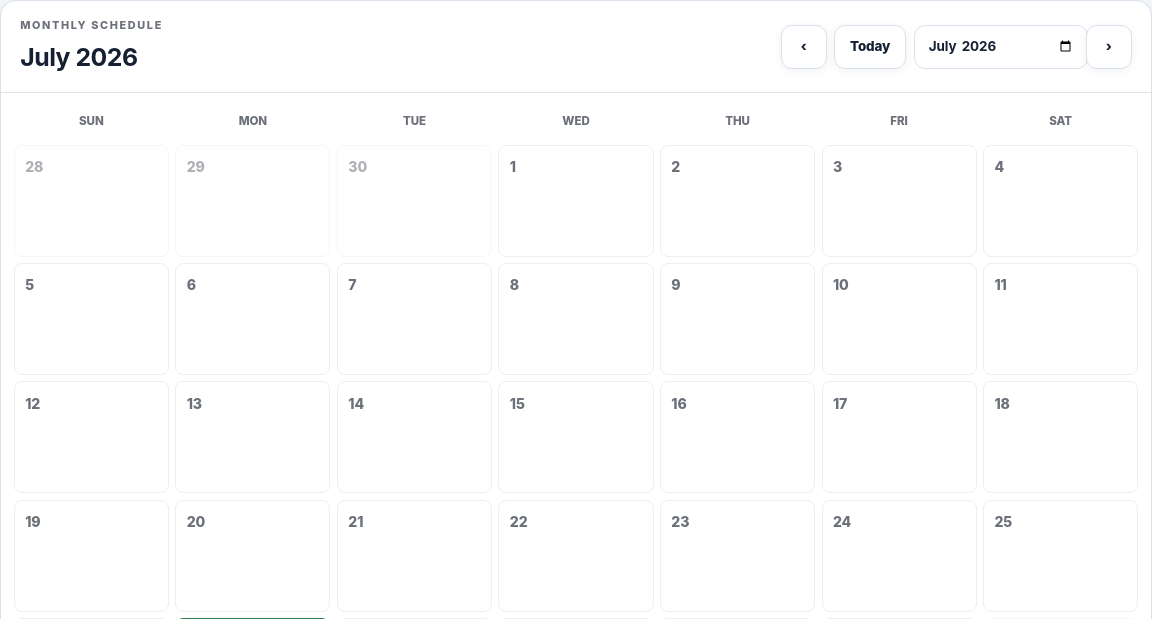
Test: services calendar interface › supports previous, next, today, and month/year picker navigation
Click the button named "Next month": (1109, 47) 1086,25 -> 1132,69
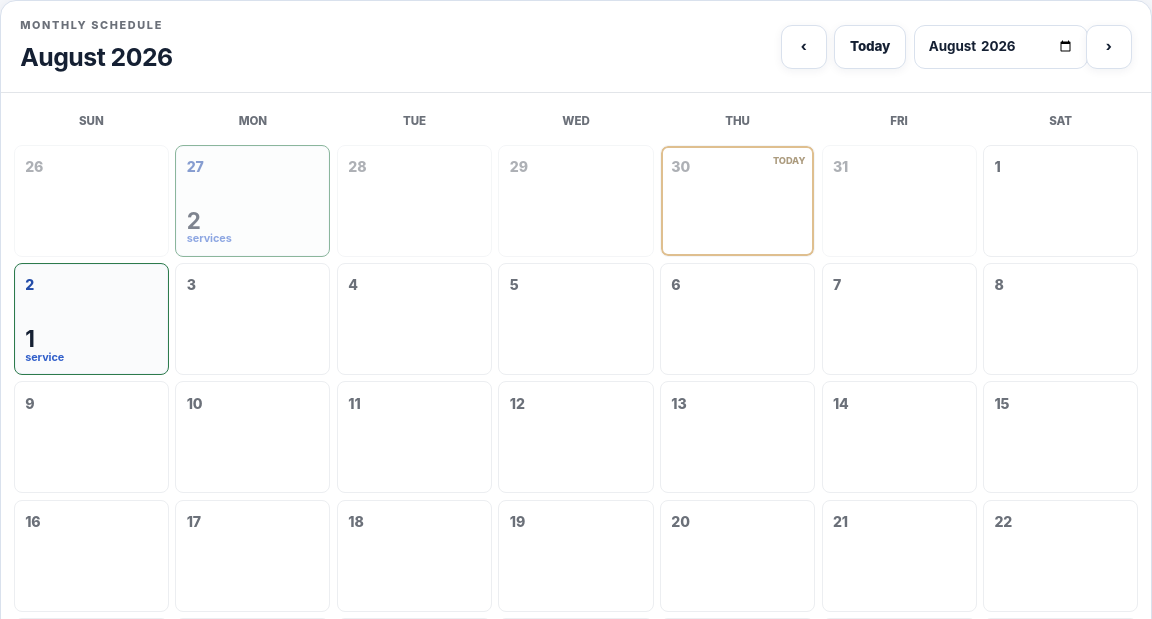
Check: the heading "August 2026" is shown, box 20,38 -> 173,76
Click the button named "Previous month": (804, 47) 781,25 -> 827,69
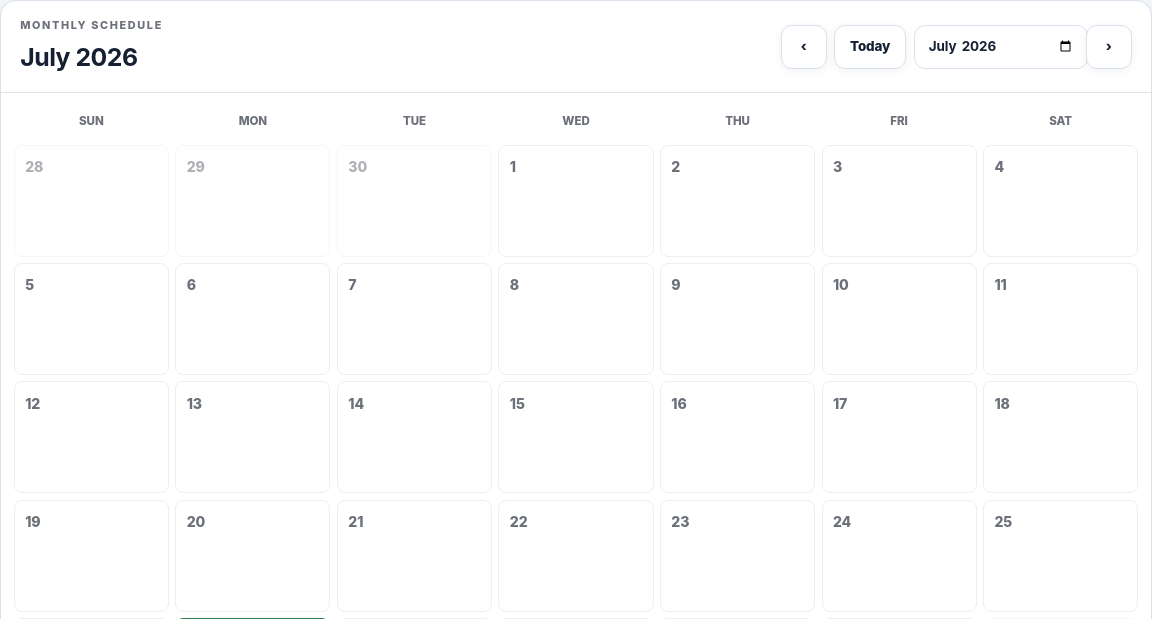
Check: the heading "July 2026" is shown, box 20,42 -> 138,72
Replace the text in the field named "Choose month and year" with "2025-12": (1001, 47) 914,25 -> 1088,69
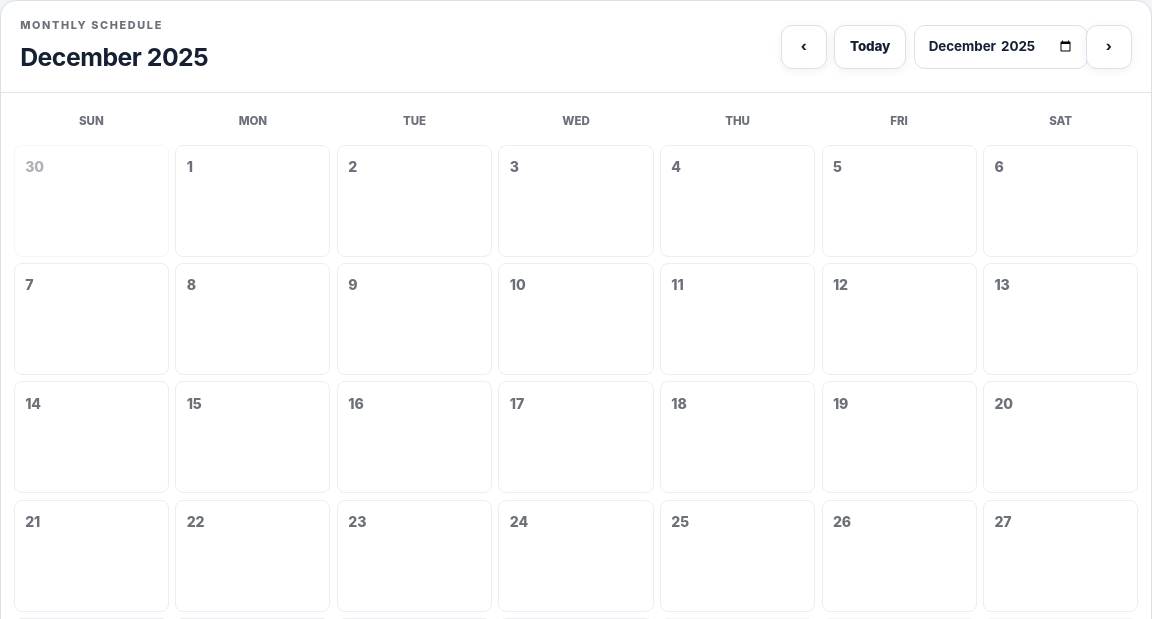
Check: the heading "December 2025" is shown, box 20,38 -> 208,76
Click the button "Today": (870, 47) 834,25 -> 906,69
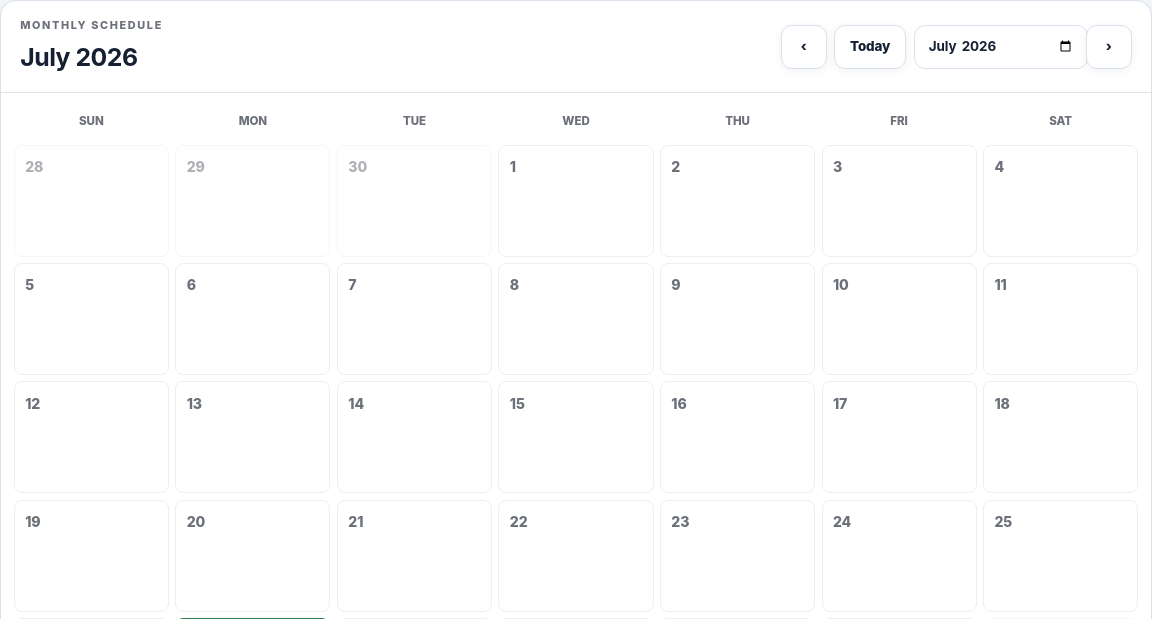
Check: the heading "July 2026" is shown, box 20,42 -> 138,72
